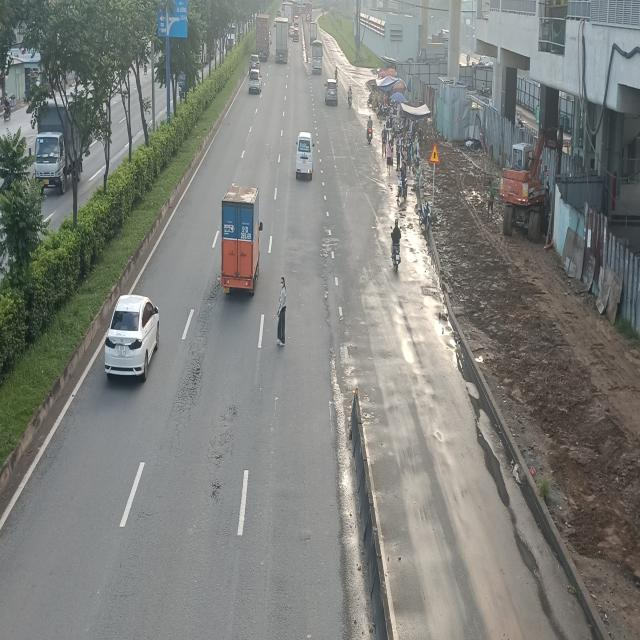car: (106, 293, 163, 382), (325, 79, 339, 106)
container: (256, 14, 270, 60), (276, 16, 288, 62)
truck: (217, 186, 261, 296)
van: (295, 132, 316, 181)
